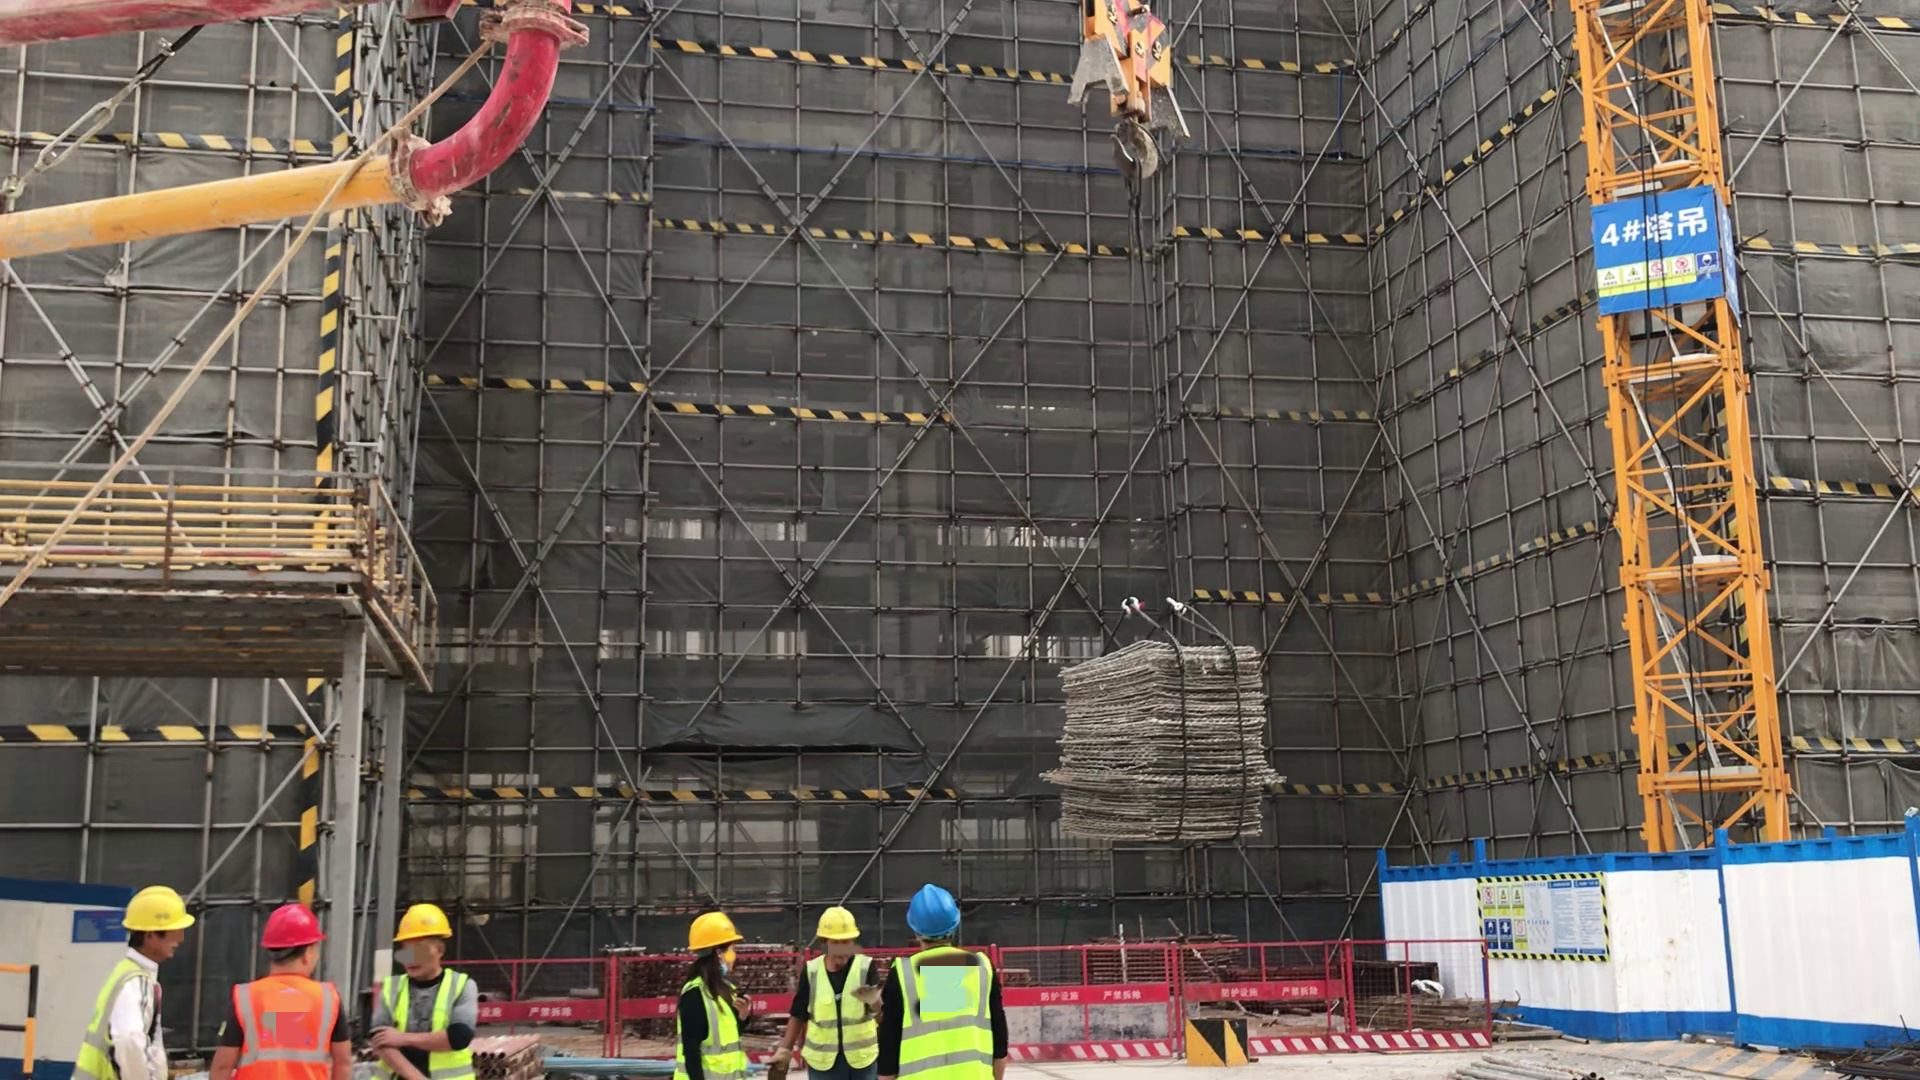fence: (1258, 930, 1500, 1056), (1008, 939, 1184, 1063), (492, 946, 666, 1056), (6, 958, 40, 1079)
helmet: (121, 886, 196, 935), (902, 886, 965, 941), (256, 904, 330, 951), (391, 904, 452, 949), (685, 915, 743, 951), (817, 909, 861, 944)
hook: (1054, 1, 1193, 187)
person: (212, 905, 360, 1080), (882, 882, 1013, 1080), (70, 886, 197, 1080), (762, 906, 884, 1080), (377, 900, 482, 1080), (672, 911, 752, 1080)
slogan: (1595, 208, 1725, 298), (1480, 875, 1614, 958)
vest: (890, 949, 1001, 1080), (231, 976, 339, 1080), (74, 960, 161, 1080), (383, 970, 477, 1080), (798, 954, 881, 1073), (673, 978, 749, 1080)
